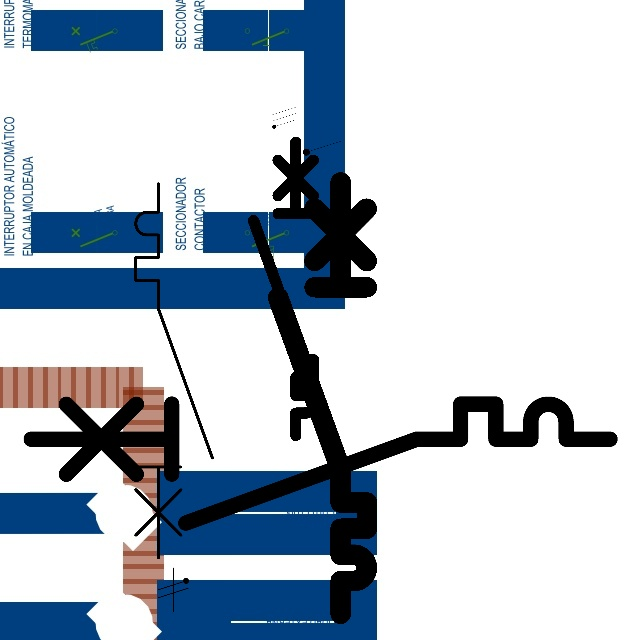interruptor_termomagnetico: (16, 389, 625, 538), (267, 171, 378, 625), (126, 174, 222, 567), (246, 134, 321, 442)
